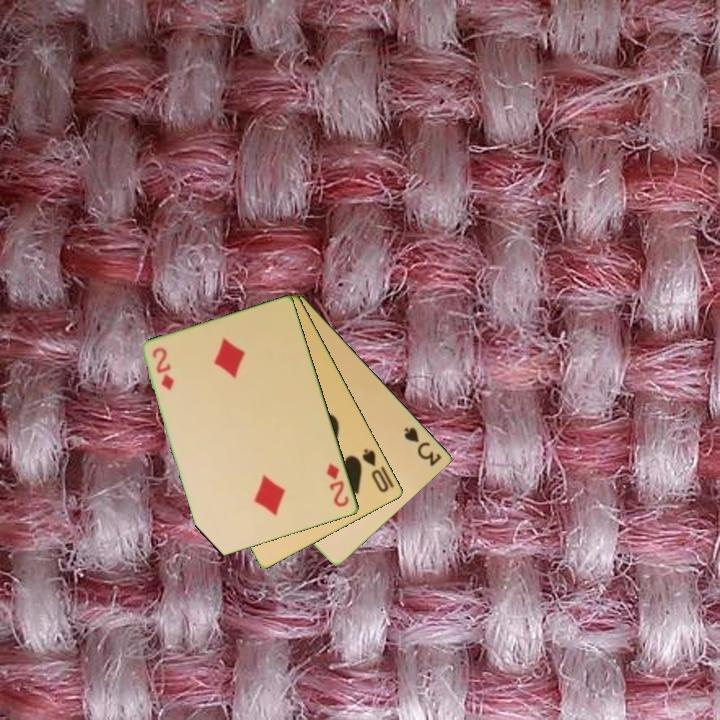10s: (359, 445, 392, 495)
2d: (323, 460, 352, 510), (149, 344, 177, 394)
3s: (401, 423, 445, 469)
